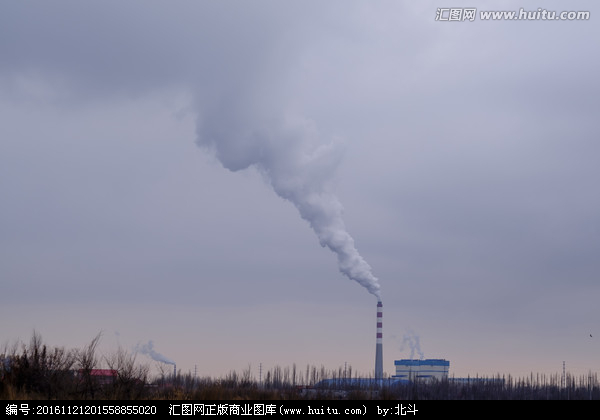dust: (274, 157, 392, 310)
